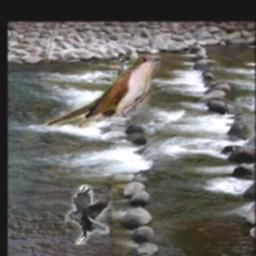Crow: (66, 184, 113, 245)
Cuckoo: (44, 56, 160, 130)
